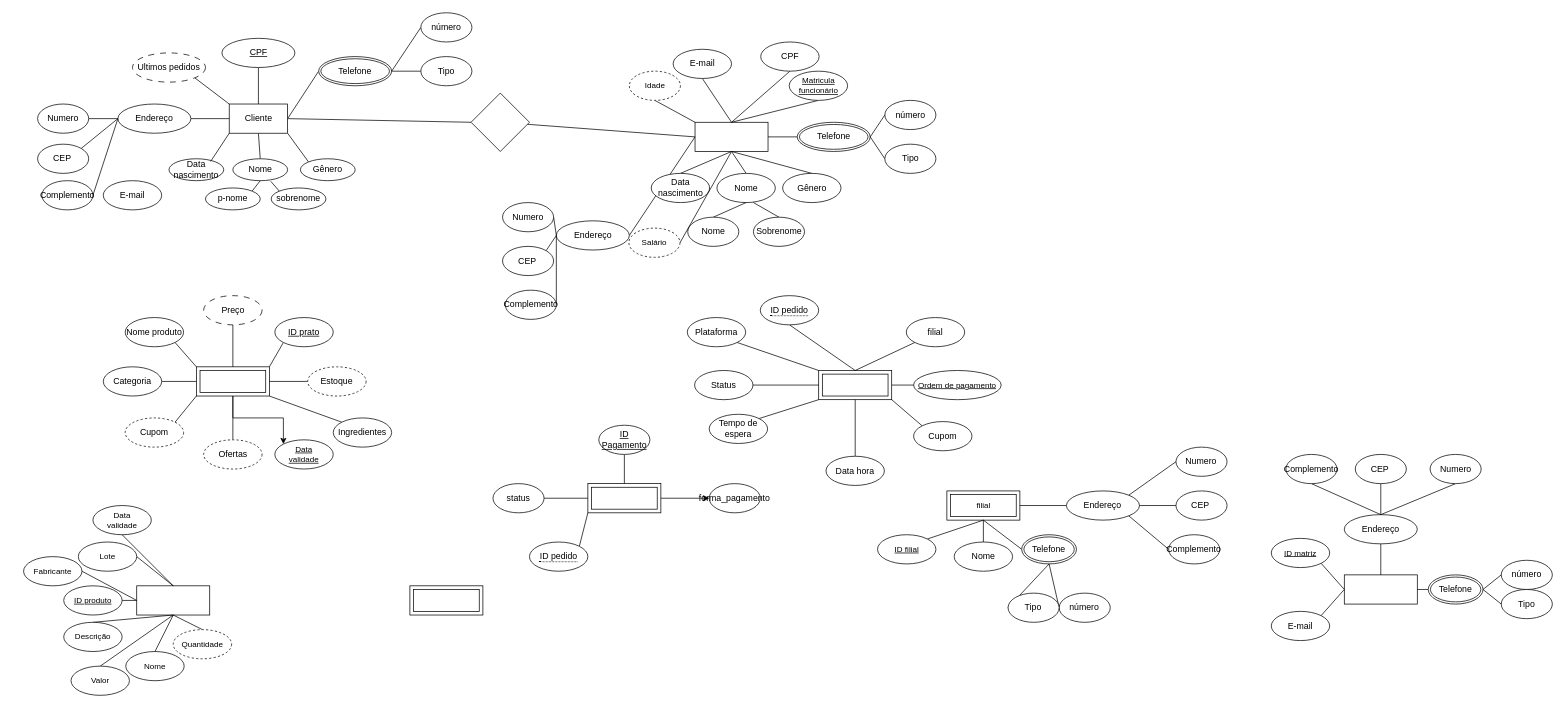
This 1566x708 diagram has some shape labels left out. Each missing label, with the centre of its shape:
"Cardapio" belongs at pixel 232 381.
"Forma de pagamento" belongs at pixel 624 498.
"fornecedor" belongs at pixel 446 600.
"Funcionário" belongs at pixel 731 136.
"Matriz" belongs at pixel 1380 589.
"Pedido" belongs at pixel 855 385.
"Produto" belongs at pixel 173 600.
"Tem" belongs at pixel 499 121.
